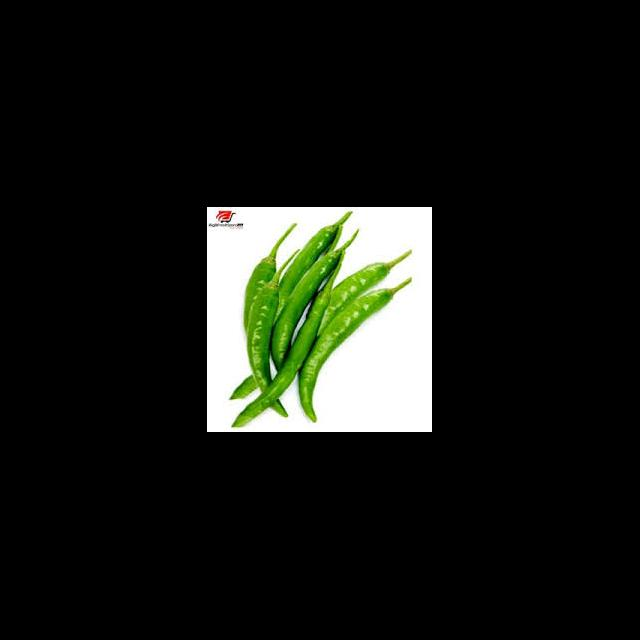chili_pepper: (298, 278, 412, 422), (233, 294, 328, 427), (319, 250, 412, 341), (274, 251, 343, 368), (278, 230, 332, 304), (248, 288, 278, 384)
